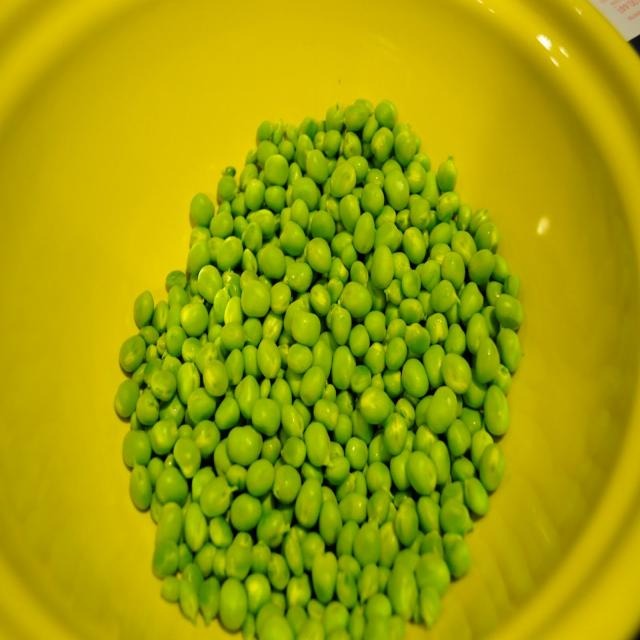Peas: (116, 96, 524, 640)
